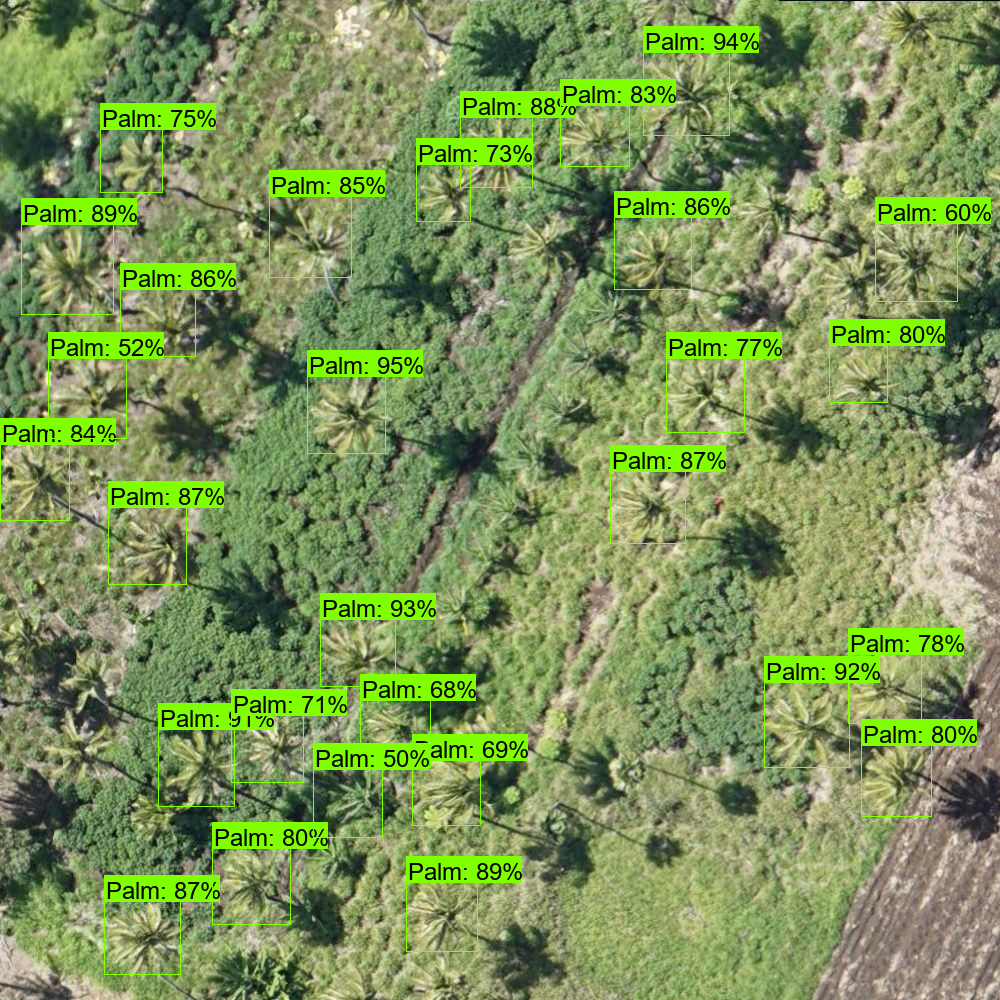not plam: (8, 119, 97, 208), (759, 809, 842, 886), (516, 390, 593, 467), (563, 888, 644, 961), (145, 15, 224, 89), (811, 530, 890, 604), (653, 914, 736, 984), (906, 921, 989, 990), (16, 27, 94, 100), (858, 843, 940, 912), (302, 63, 375, 139), (759, 918, 839, 987), (131, 627, 204, 702), (422, 572, 495, 644), (407, 335, 482, 405), (218, 439, 292, 509), (553, 300, 623, 373), (656, 589, 727, 659), (466, 480, 536, 549), (857, 100, 928, 168), (661, 670, 733, 737), (204, 938, 281, 988)
